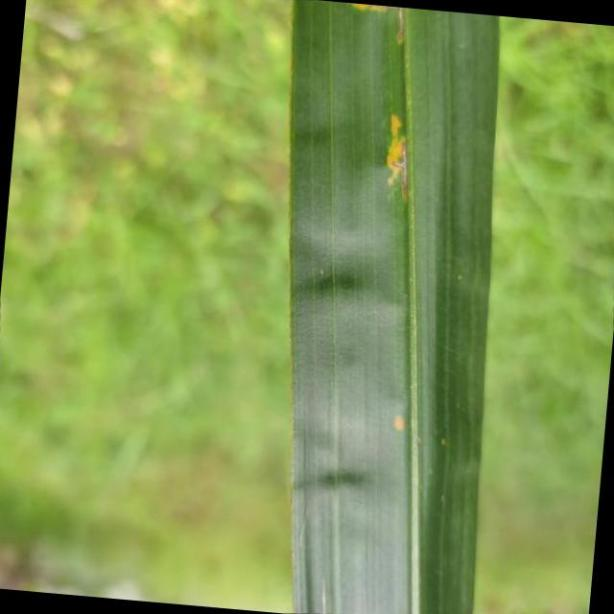Boron: (291, 1, 494, 614)
